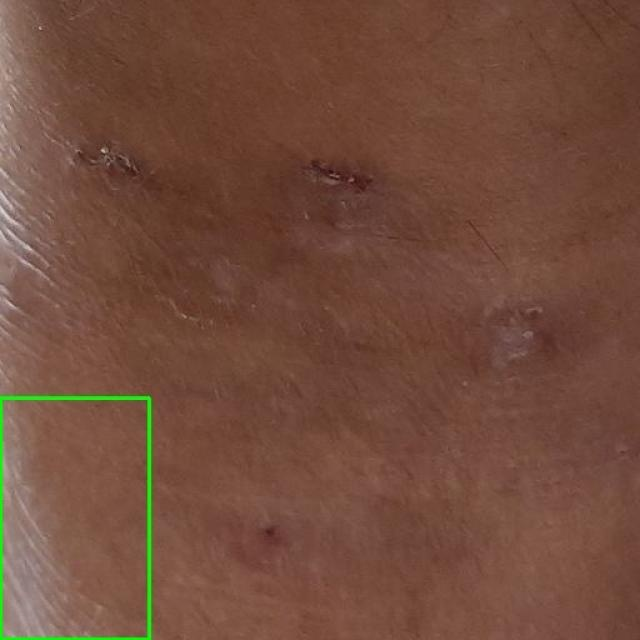Contact Dermatitis: (0, 398, 149, 639)
